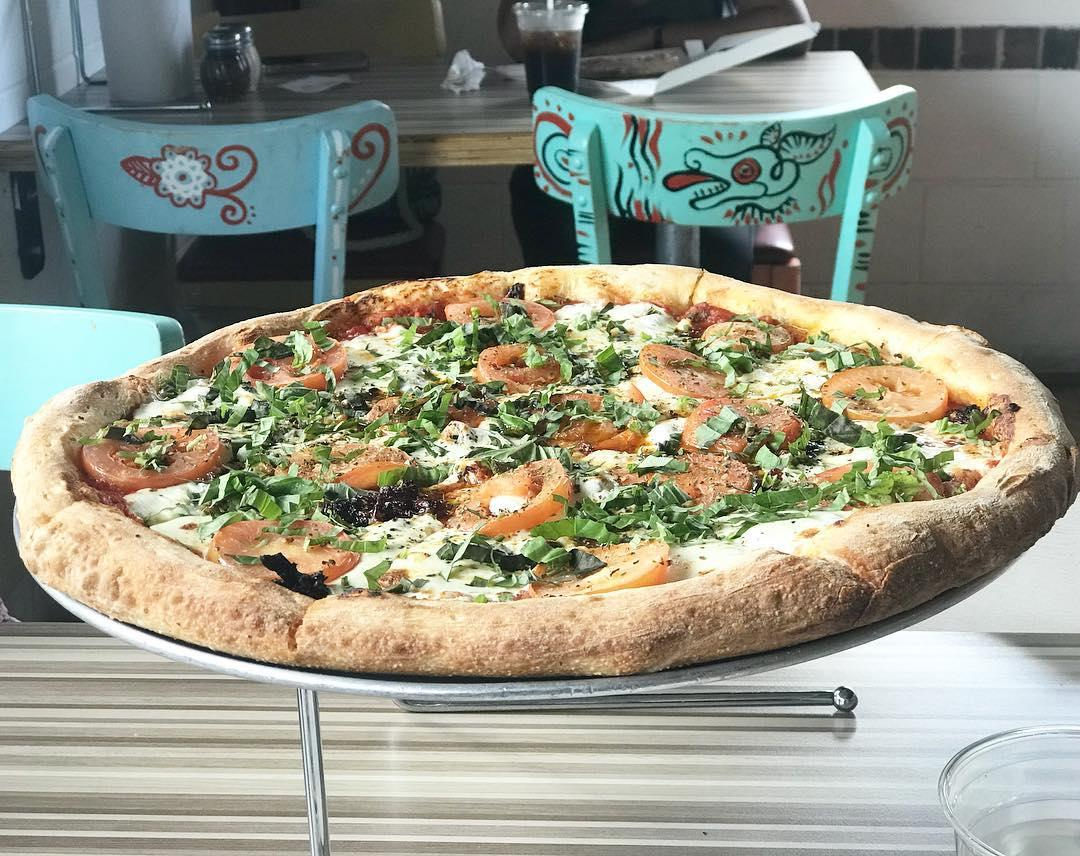Basil: (580, 488, 821, 531), (200, 383, 330, 435), (213, 472, 333, 517), (498, 398, 643, 426), (798, 390, 869, 447), (835, 466, 932, 506), (408, 325, 474, 369), (243, 332, 324, 365), (403, 395, 454, 433), (232, 433, 281, 465), (878, 429, 912, 467)
Pizza: (11, 263, 1080, 679)
Tomatoes: (209, 520, 360, 581), (83, 427, 222, 491), (520, 540, 670, 599), (457, 459, 566, 535), (821, 365, 948, 422), (228, 334, 348, 390), (684, 399, 805, 447), (637, 344, 727, 399), (652, 454, 752, 499), (362, 392, 485, 428), (479, 344, 557, 395), (289, 440, 407, 470), (445, 299, 554, 331), (556, 421, 638, 451), (545, 392, 646, 413), (329, 461, 409, 487)
